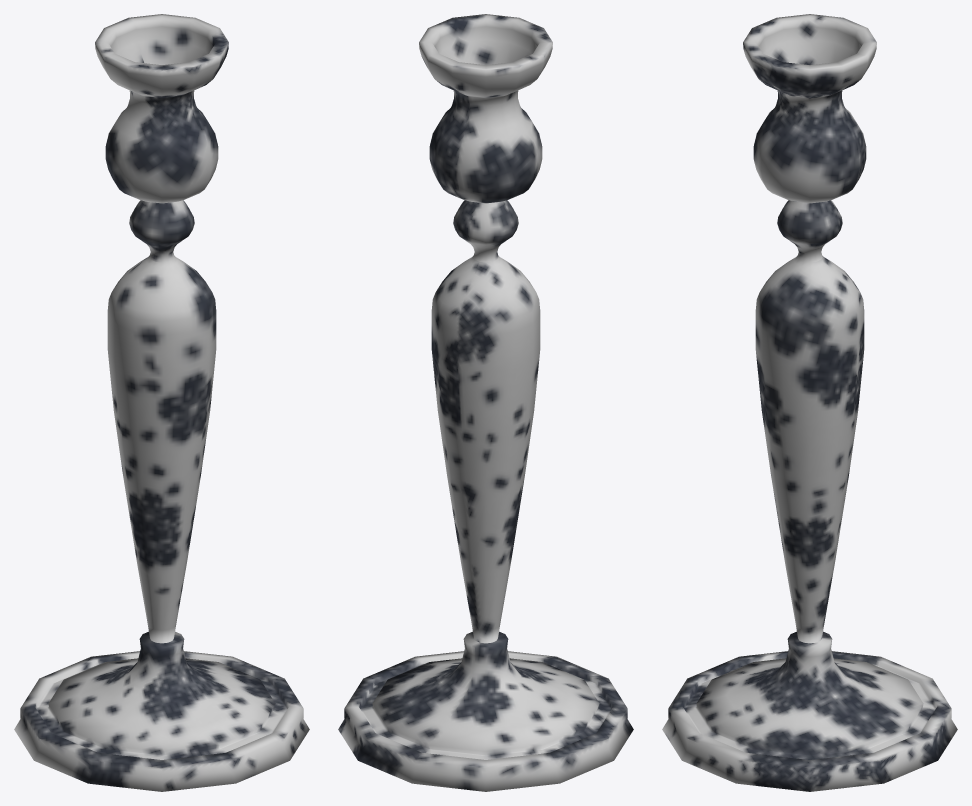
The model's file is vase_1.fbx.
The picture shows the model from 3 angles, left to right: view 1: azimuth 30°, elevation 25°; view 2: azimuth 150°, elevation 25°; view 3: azimuth 270°, elevation 25°; orthographic projection.
Parts seen in each view (by area): view 1: vase_1; view 2: vase_1; view 3: vase_1.
Part boxes in pixels (x1,y1,x2,y2): vase_1: (14,14,309,791); vase_1: (338,14,633,791); vase_1: (662,14,957,791).
Size of the model in its own units: 15.71 by 40.28 by 15.71.
